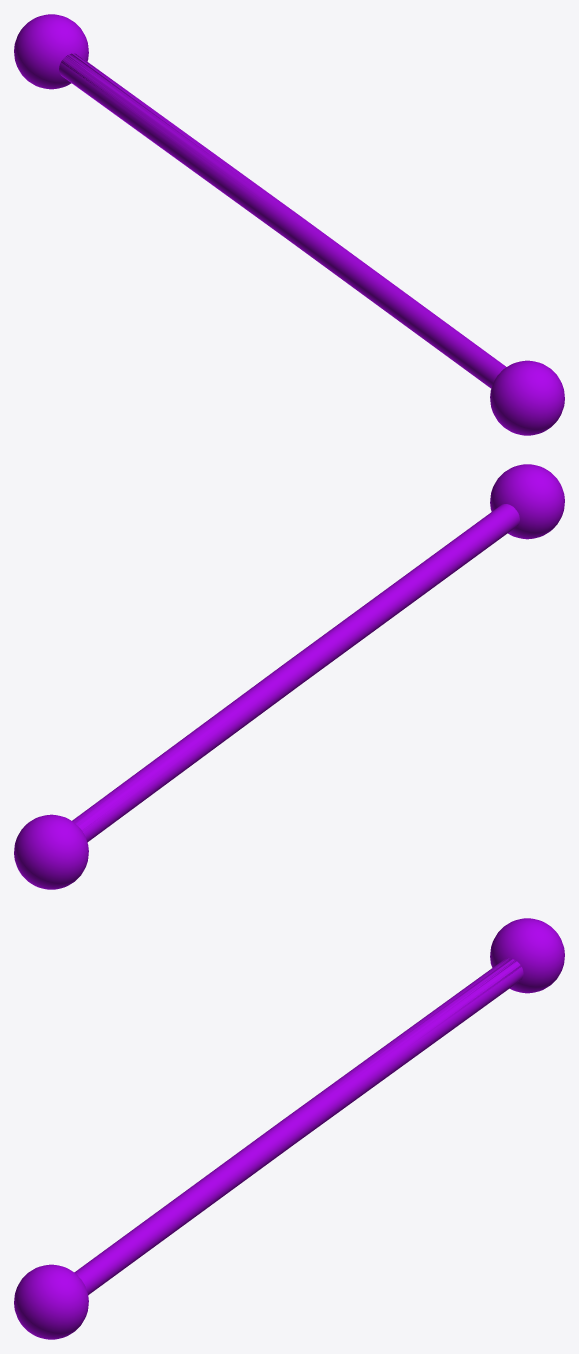
Rendered from line_purple.glb.
3 renders of one model, top to bottom at view 1: azimuth 30°, elevation 25°; view 2: azimuth 150°, elevation 25°; view 3: azimuth 330°, elevation 25°, orthographic.
Visible parts, largest first — view 1: NurbsPath.001, Sphere.004, Sphere.002; view 2: NurbsPath.001, Sphere.002, Sphere.004; view 3: NurbsPath.001, Sphere.004, Sphere.002.
Part boxes in pixels (box(x1,y1,x2,y2)): NurbsPath.001: box(59, 53, 506, 388); Sphere.004: box(490, 360, 564, 435); Sphere.002: box(14, 14, 88, 89); NurbsPath.001: box(72, 504, 519, 842); Sphere.002: box(14, 814, 88, 889); Sphere.004: box(490, 464, 564, 539); NurbsPath.001: box(74, 958, 523, 1294); Sphere.004: box(14, 1264, 88, 1339); Sphere.002: box(490, 918, 564, 993).
Bounding box in the file's own units: 0.1688 × 0.174 × 2.31.
